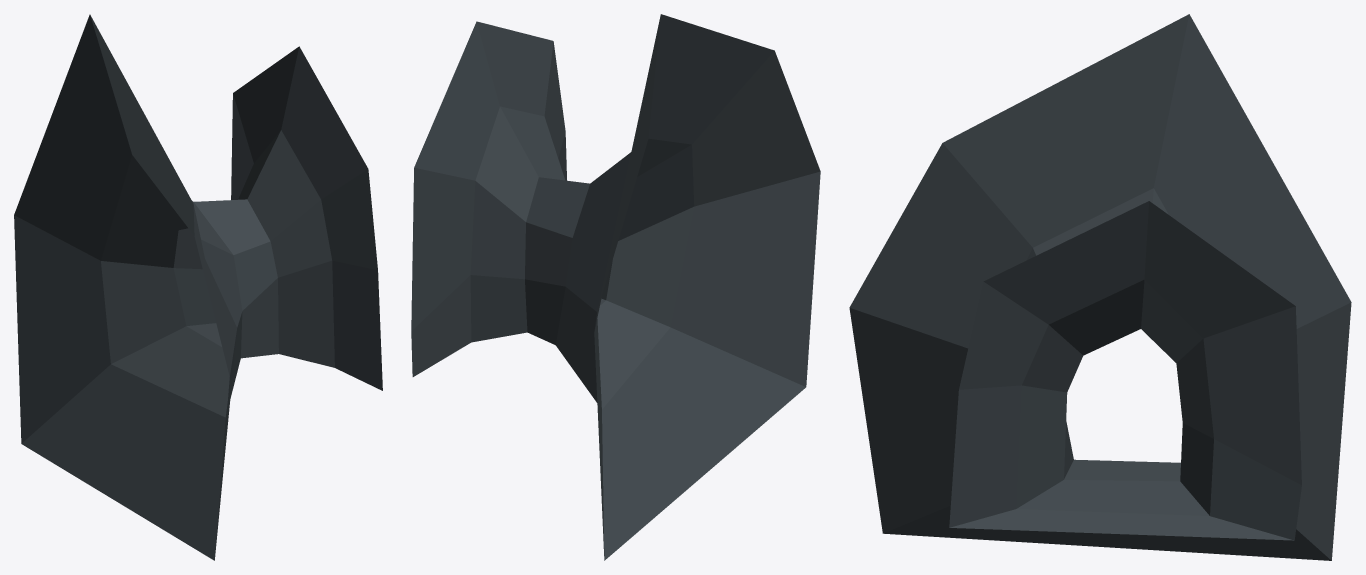
The model's file is DomeExit-adapter-08.fbx.
3 renders of one model, left to right at view 1: azimuth 30°, elevation 25°; view 2: azimuth 150°, elevation 25°; view 3: azimuth 270°, elevation 25°, orthographic. The views are drawn at different scales.
Parts seen in each view (by area): view 1: DomeExit-adapter-08; view 2: DomeExit-adapter-08; view 3: DomeExit-adapter-08.
Boxes of the visible parts, left/top/right/bottom form: DomeExit-adapter-08: left=14, top=14, right=382, bottom=560; DomeExit-adapter-08: left=411, top=14, right=820, bottom=560; DomeExit-adapter-08: left=849, top=14, right=1351, bottom=560.
Size of the model in its own units: 556 by 1259 by 1039.
